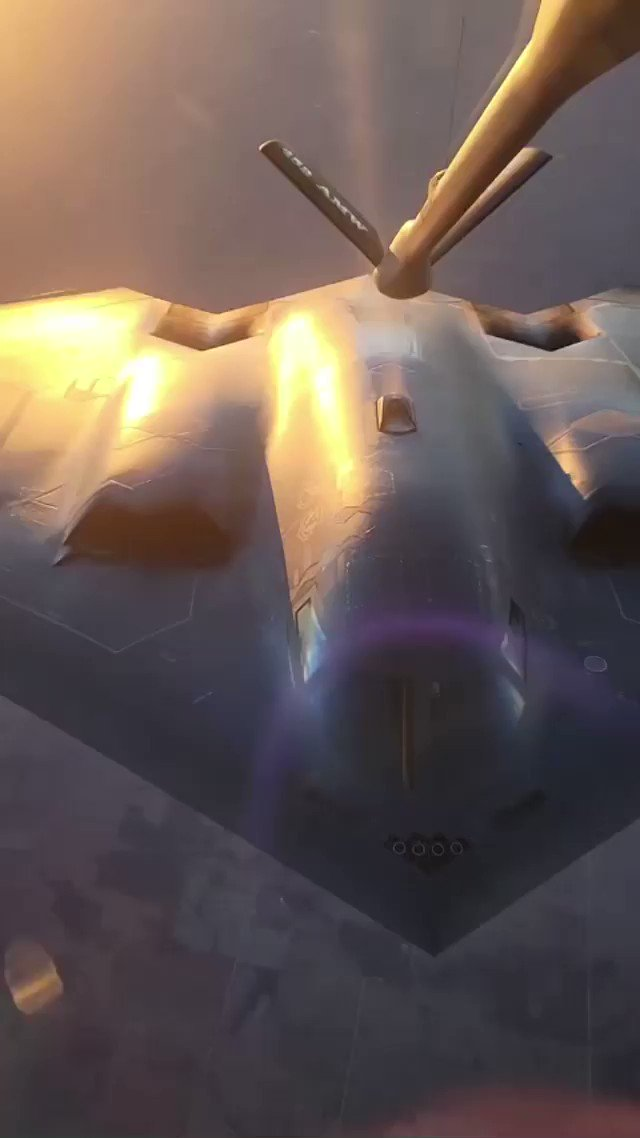B2: (1, 272, 640, 958)
